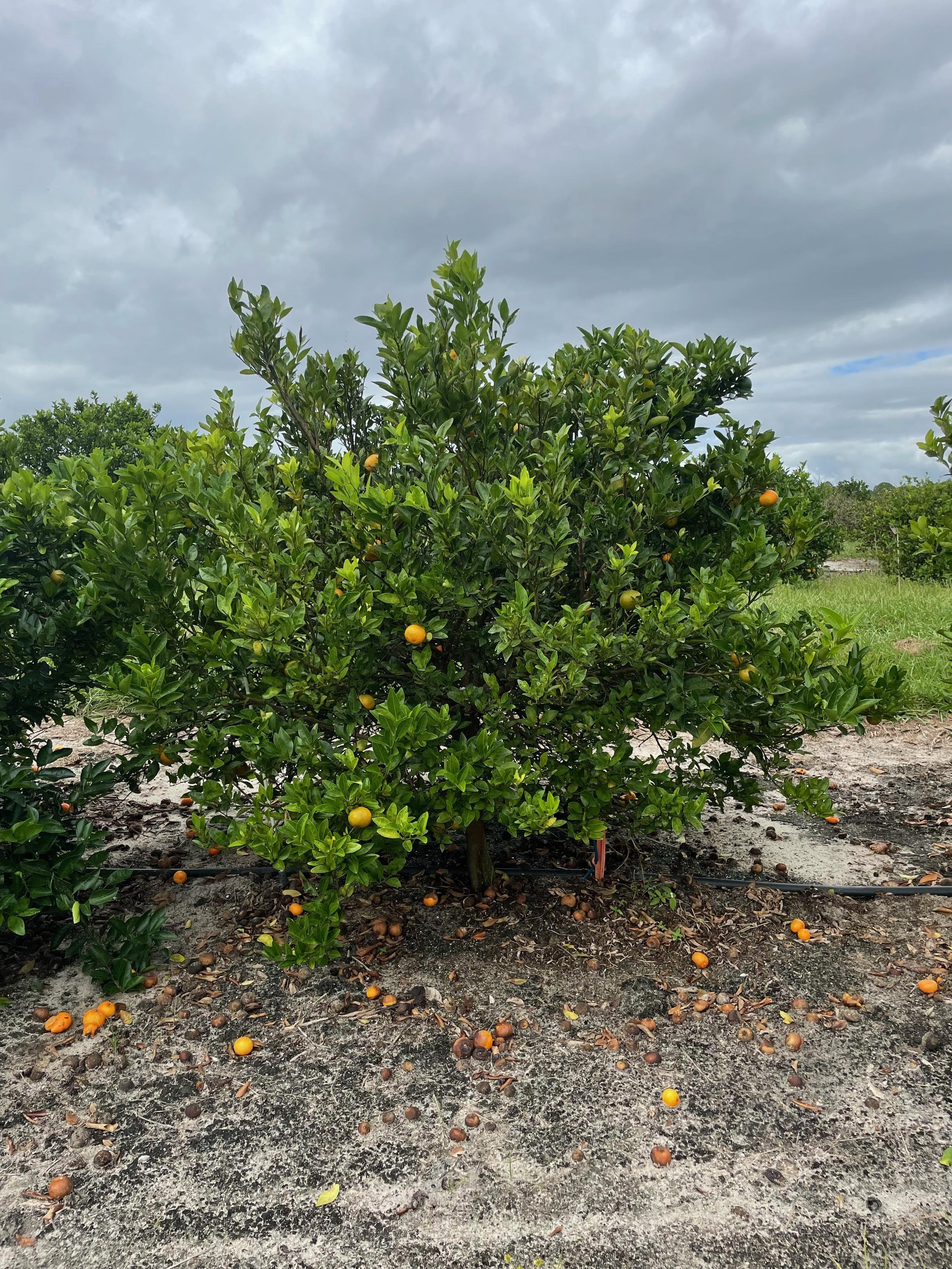fruit_on_ground: (616, 585, 646, 613), (724, 645, 754, 672), (346, 803, 375, 830), (735, 659, 762, 686), (401, 621, 429, 647), (360, 537, 387, 563), (281, 655, 306, 680), (756, 486, 781, 510), (323, 584, 347, 608), (360, 449, 383, 474), (46, 565, 71, 587), (660, 508, 683, 530), (354, 691, 377, 713), (229, 758, 251, 779), (733, 374, 754, 395), (159, 748, 179, 767), (640, 357, 659, 374), (865, 709, 883, 726), (659, 549, 677, 565)
fruit_on_tree: (47, 1173, 75, 1201), (45, 1010, 72, 1033), (231, 1034, 254, 1057), (452, 1037, 475, 1059), (82, 1007, 105, 1029), (650, 1143, 672, 1166), (472, 1028, 493, 1050), (96, 999, 117, 1020), (690, 949, 710, 970), (917, 976, 939, 995), (662, 1086, 681, 1108), (784, 1031, 804, 1050), (494, 1018, 513, 1037), (31, 1004, 50, 1023), (370, 916, 388, 936), (364, 983, 382, 1001), (141, 971, 159, 988), (185, 1102, 202, 1119), (287, 900, 304, 917), (559, 892, 577, 908), (736, 1026, 754, 1042), (448, 1126, 466, 1142), (789, 916, 807, 932), (404, 1105, 421, 1121), (387, 921, 404, 937), (422, 891, 439, 907), (198, 950, 216, 965), (791, 996, 810, 1010), (59, 799, 75, 815), (381, 992, 397, 1008), (172, 868, 188, 884), (226, 997, 243, 1012), (770, 799, 787, 814), (464, 1111, 481, 1126), (643, 1050, 660, 1065), (796, 926, 813, 941), (357, 1120, 372, 1136), (156, 856, 173, 870), (378, 1065, 393, 1080), (380, 1109, 395, 1124), (571, 907, 586, 922), (622, 788, 638, 802), (177, 1048, 193, 1062), (642, 1016, 658, 1030), (210, 1014, 226, 1028), (759, 1040, 775, 1054), (82, 1024, 97, 1038), (514, 890, 528, 905), (749, 860, 764, 874), (178, 794, 194, 807), (824, 811, 840, 824), (184, 825, 198, 839), (483, 884, 498, 897), (207, 843, 222, 856), (774, 860, 789, 873), (517, 1017, 531, 1030), (578, 900, 592, 913), (29, 761, 42, 774), (586, 909, 599, 920)
